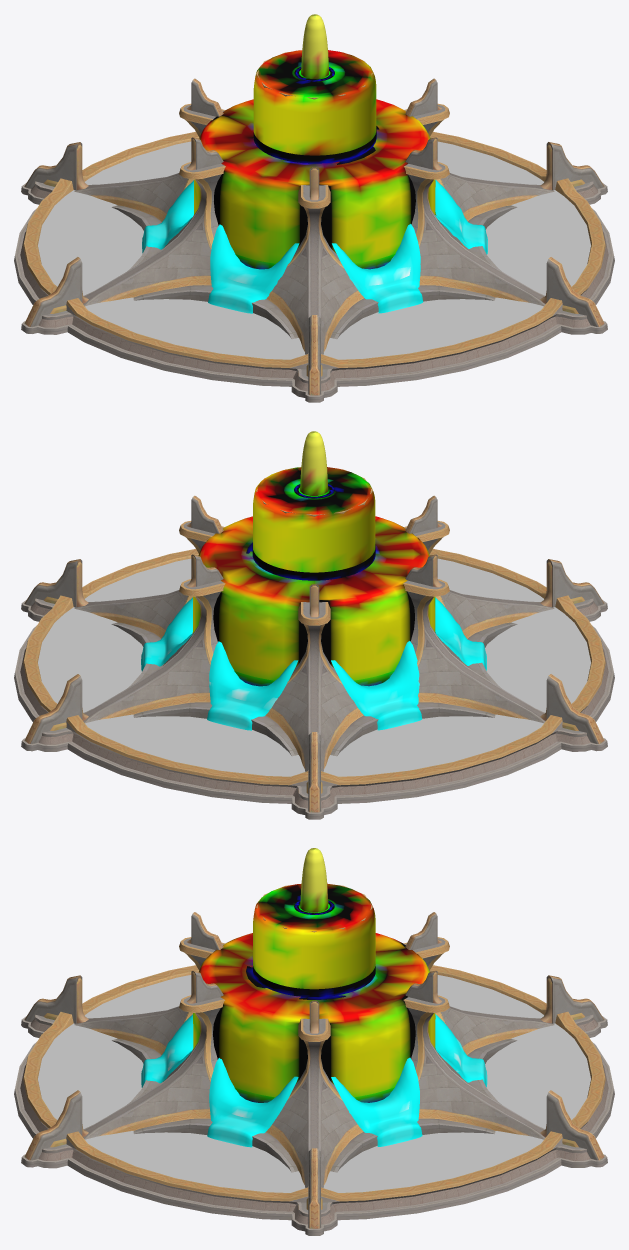
File: Homeworld_Exterior_Fd_Decoration_Prop_Xuyuanchi_01_Lod0.fbx
3 views of the same model, one above another, from view 1: azimuth 30°, elevation 25°; view 2: azimuth 150°, elevation 25°; view 3: azimuth 270°, elevation 25° (orthographic).
Visible parts, largest first — view 1: Area_Fd_Prop_SPD_Penquan_02_Lod0, Homeworld_Exterior_Fd_Decoration_Prop_XuyuanchiS_01_Vo, FountainMain, BottomWater, BottomWaterLink, FountainWhite; view 2: Area_Fd_Prop_SPD_Penquan_02_Lod0, Homeworld_Exterior_Fd_Decoration_Prop_XuyuanchiS_01_Vo, FountainMain, BottomWater, BottomWaterLink, FountainWhite; view 3: Area_Fd_Prop_SPD_Penquan_02_Lod0, Homeworld_Exterior_Fd_Decoration_Prop_XuyuanchiS_01_Vo, FountainMain, BottomWater, BottomWaterLink, FountainWhite.
Boxes of the visible parts, left/top/right/bottom form: Area_Fd_Prop_SPD_Penquan_02_Lod0: left=14, top=51, right=614, bottom=402; Homeworld_Exterior_Fd_Decoration_Prop_XuyuanchiS_01_Vo: left=38, top=141, right=590, bottom=359; FountainMain: left=194, top=50, right=435, bottom=269; BottomWater: left=142, top=180, right=487, bottom=313; BottomWaterLink: left=165, top=205, right=465, bottom=292; FountainWhite: left=301, top=14, right=329, bottom=78; Area_Fd_Prop_SPD_Penquan_02_Lod0: left=14, top=469, right=614, bottom=819; Homeworld_Exterior_Fd_Decoration_Prop_XuyuanchiS_01_Vo: left=38, top=558, right=590, bottom=776; FountainMain: left=193, top=467, right=435, bottom=686; BottomWater: left=141, top=597, right=486, bottom=730; BottomWaterLink: left=164, top=622, right=464, bottom=709; FountainWhite: left=300, top=431, right=328, bottom=495; Area_Fd_Prop_SPD_Penquan_02_Lod0: left=14, top=884, right=614, bottom=1235; Homeworld_Exterior_Fd_Decoration_Prop_XuyuanchiS_01_Vo: left=38, top=975, right=590, bottom=1192; FountainMain: left=193, top=883, right=435, bottom=1102; BottomWater: left=141, top=1014, right=487, bottom=1147; BottomWaterLink: left=164, top=1038, right=464, bottom=1126; FountainWhite: left=300, top=848, right=328, bottom=912.
Size of what is drawn, in the model's own units: 19.35 by 7.8 by 17.33.
